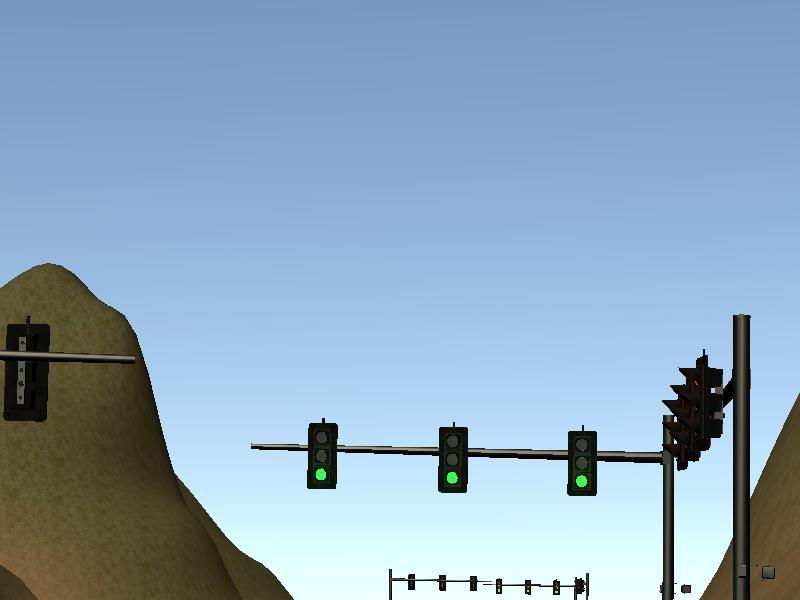Green: (439, 426, 469, 492), (566, 430, 596, 496), (308, 423, 337, 488), (495, 577, 503, 595), (524, 578, 532, 595), (553, 580, 562, 595)
